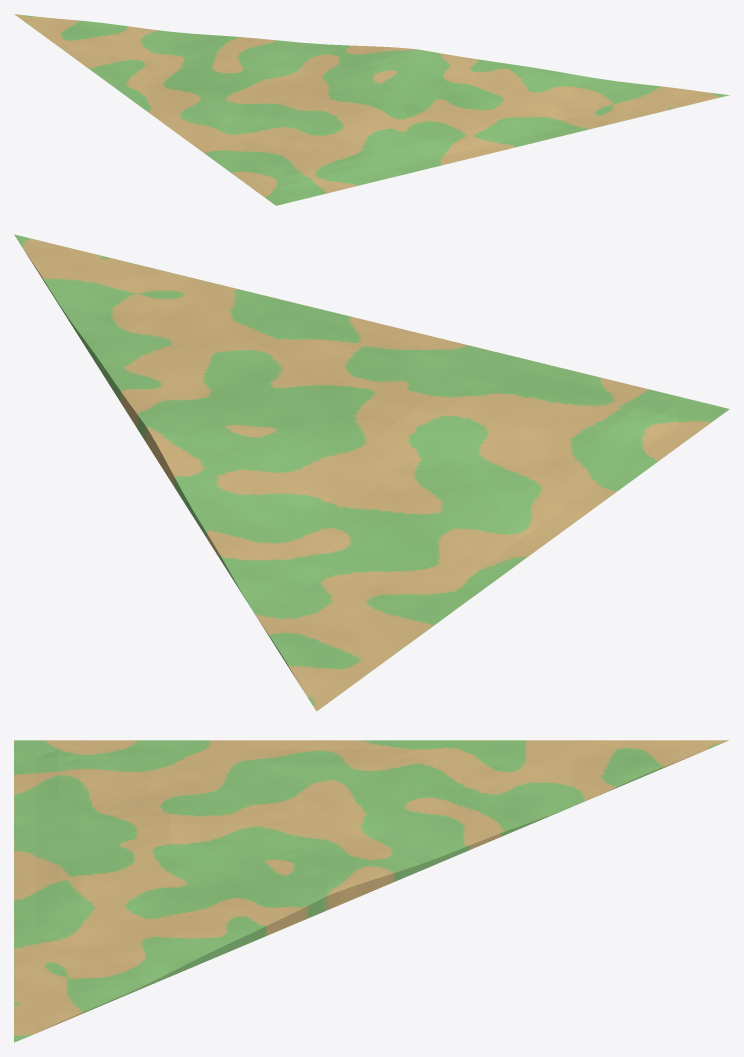
Rendered from Grass_Flat_08_NW.obj.
The picture shows the model from 3 angles, top to bottom: view 1: azimuth 30°, elevation 25°; view 2: azimuth 150°, elevation 25°; view 3: azimuth 270°, elevation 25°; orthographic projection. The views are drawn at different scales.
Size of the model in its own units: 10 by 0.2203 by 10.
1 material, 1 textured.
